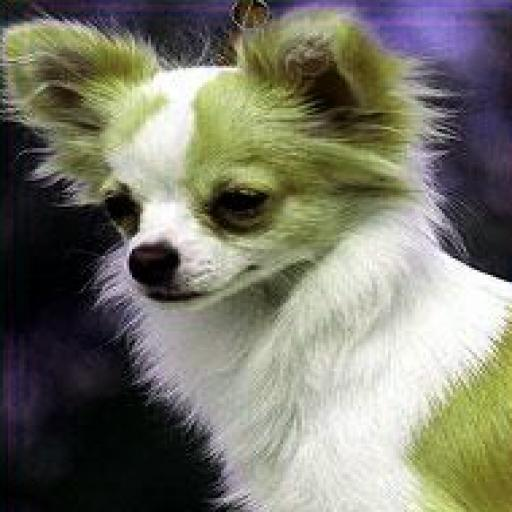dog_face: (6, 12, 404, 294)
